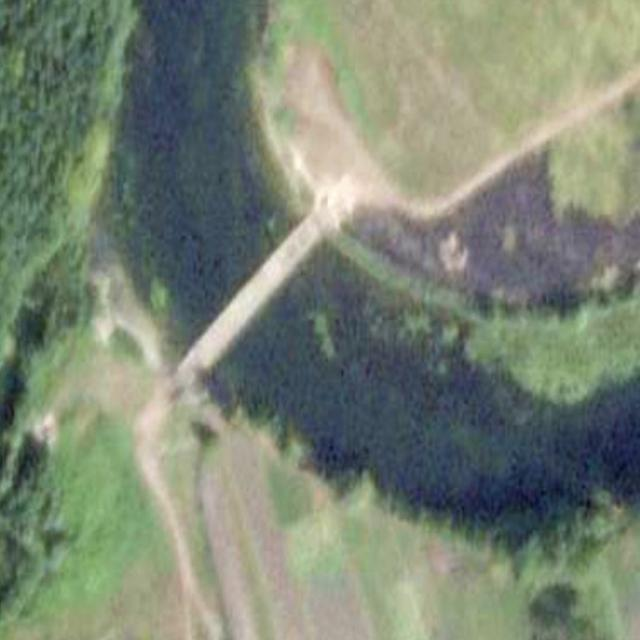fortification: (177, 207, 328, 388)
